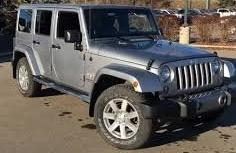SUV: (13, 6, 234, 148)
